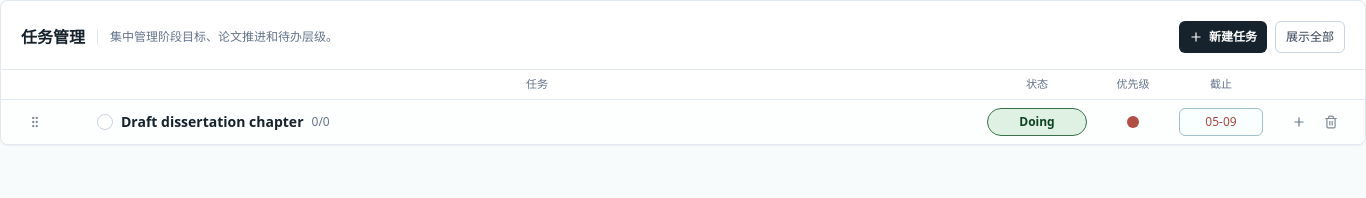
Test: TaskManager › marks a top-level task complete from the compact row control
The image size is (1366, 198).
Step 1. Click the button named "Mark task Draft dissertation chapter complete" → (105, 122), box [97,114,113,130]
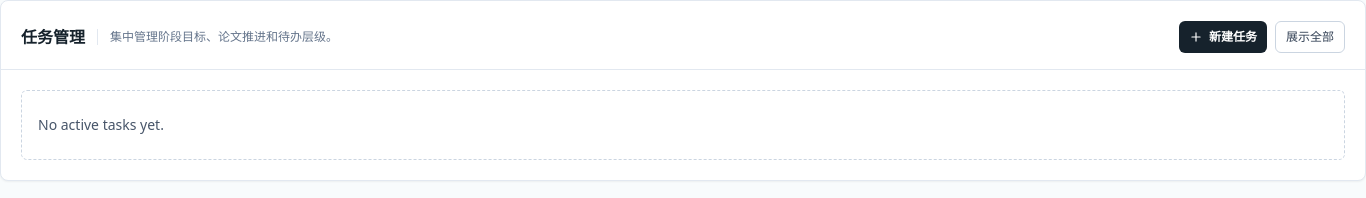
Expected: the button "Draft dissertation chapter" is gone
